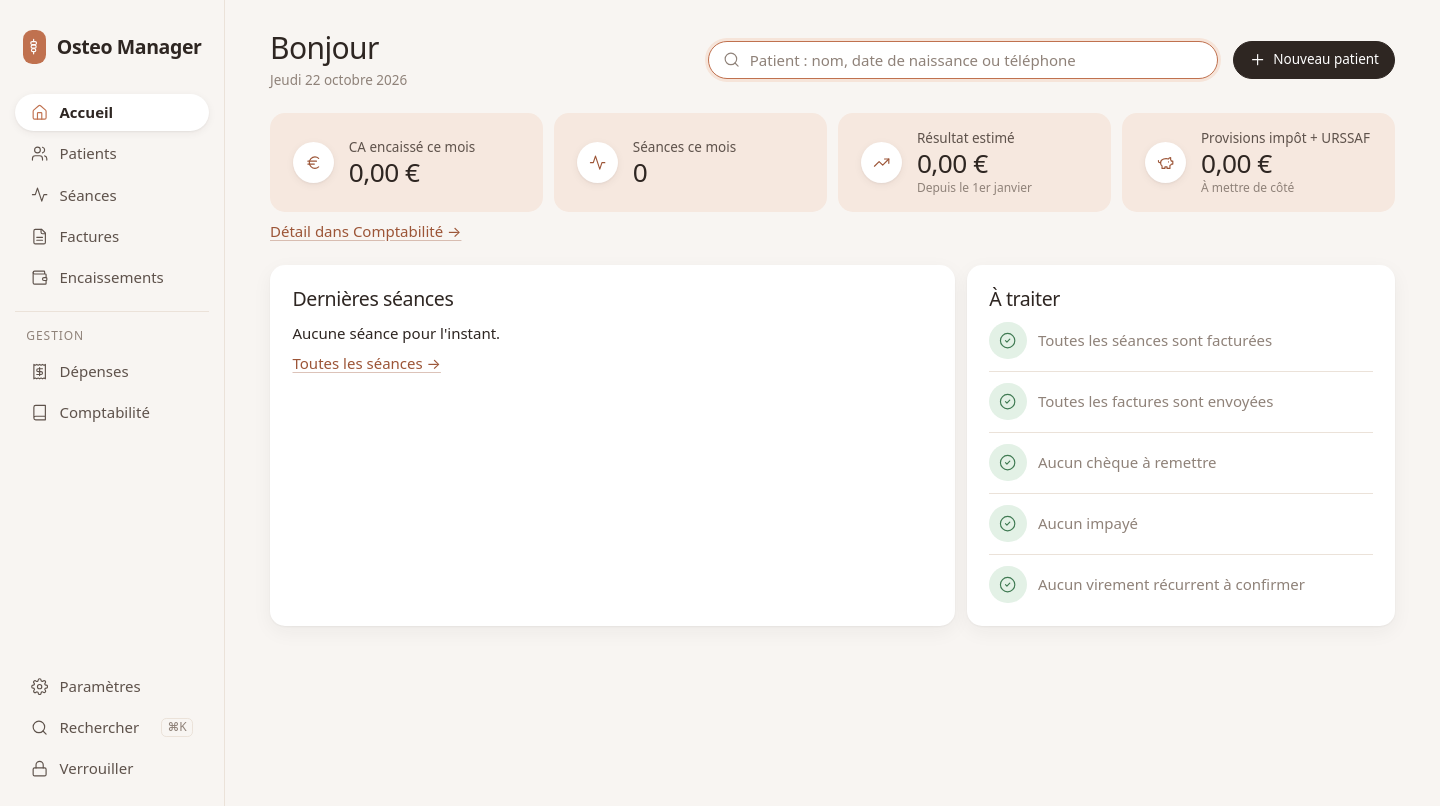
Test case: le choix du fournisseur remplit le serveur et affiche son aide
Click the button "Paramètres" at [112, 686], box 15,668 -> 209,705
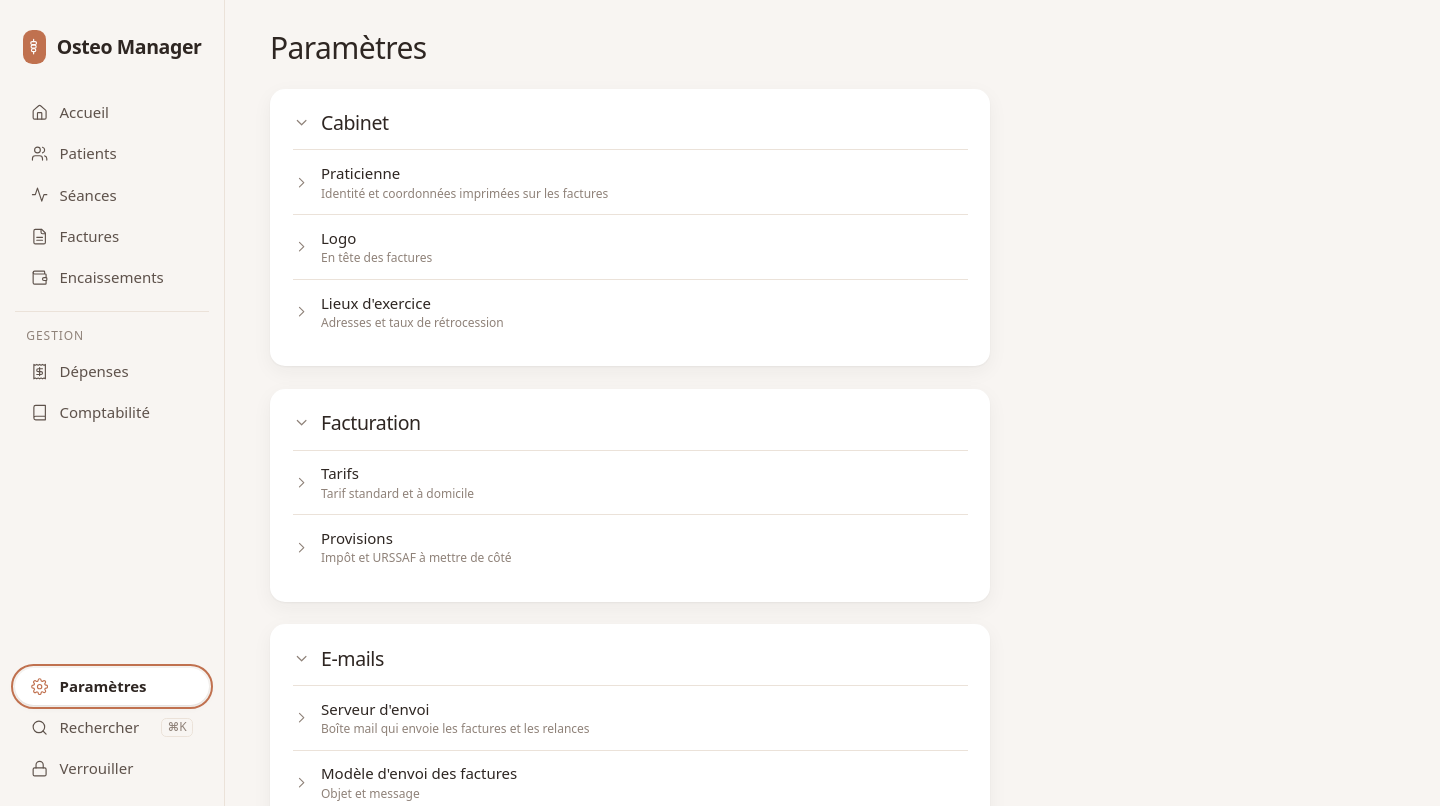
Click the heading "Serveur d'envoi" at [375, 708], box 321,698 -> 429,718
(page scrolled)
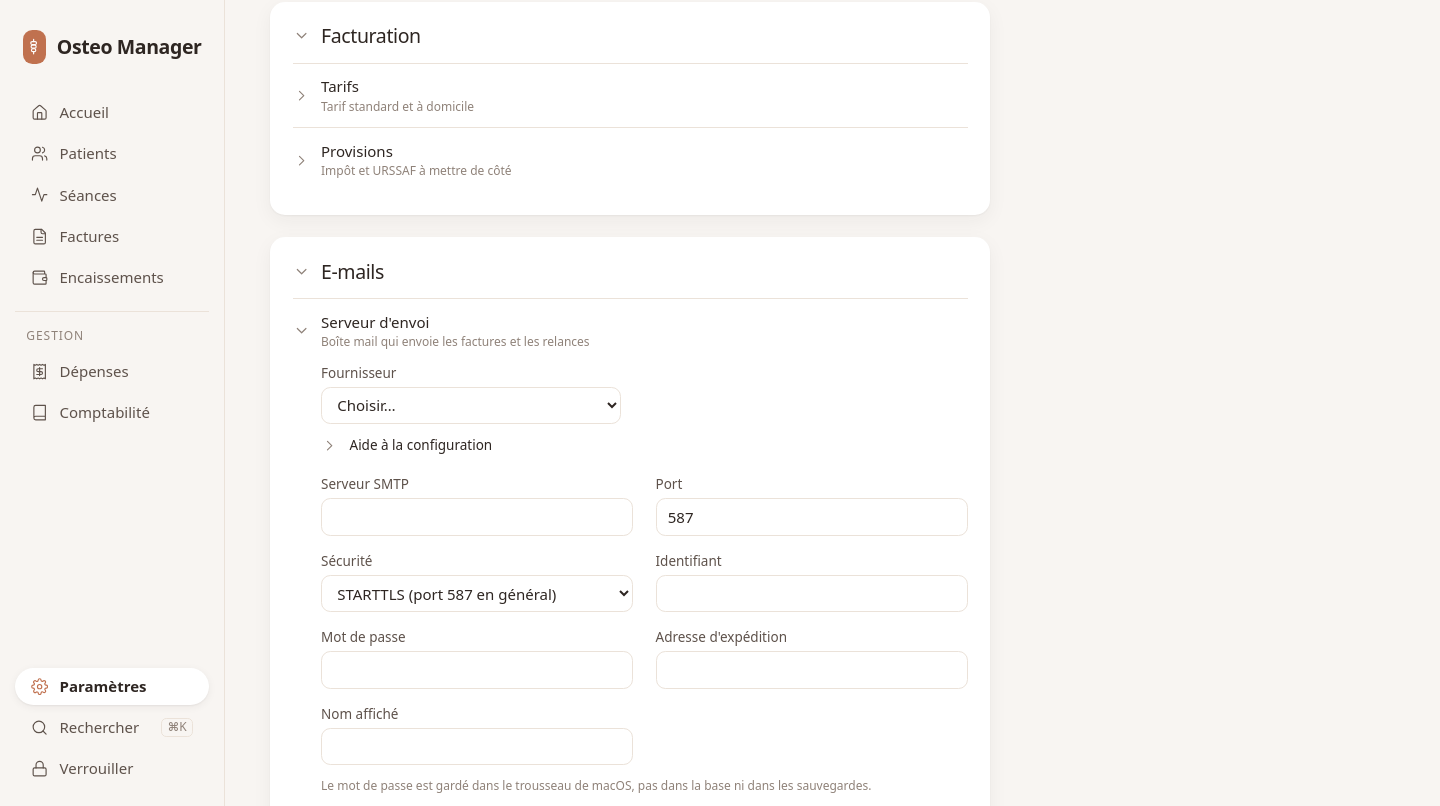
Expected: the dropdown labelled "Fournisseur" shows "Choisir…"
Select "Gmail" in the dropdown labelled "Fournisseur" at [471, 405], box 321,387 -> 621,424
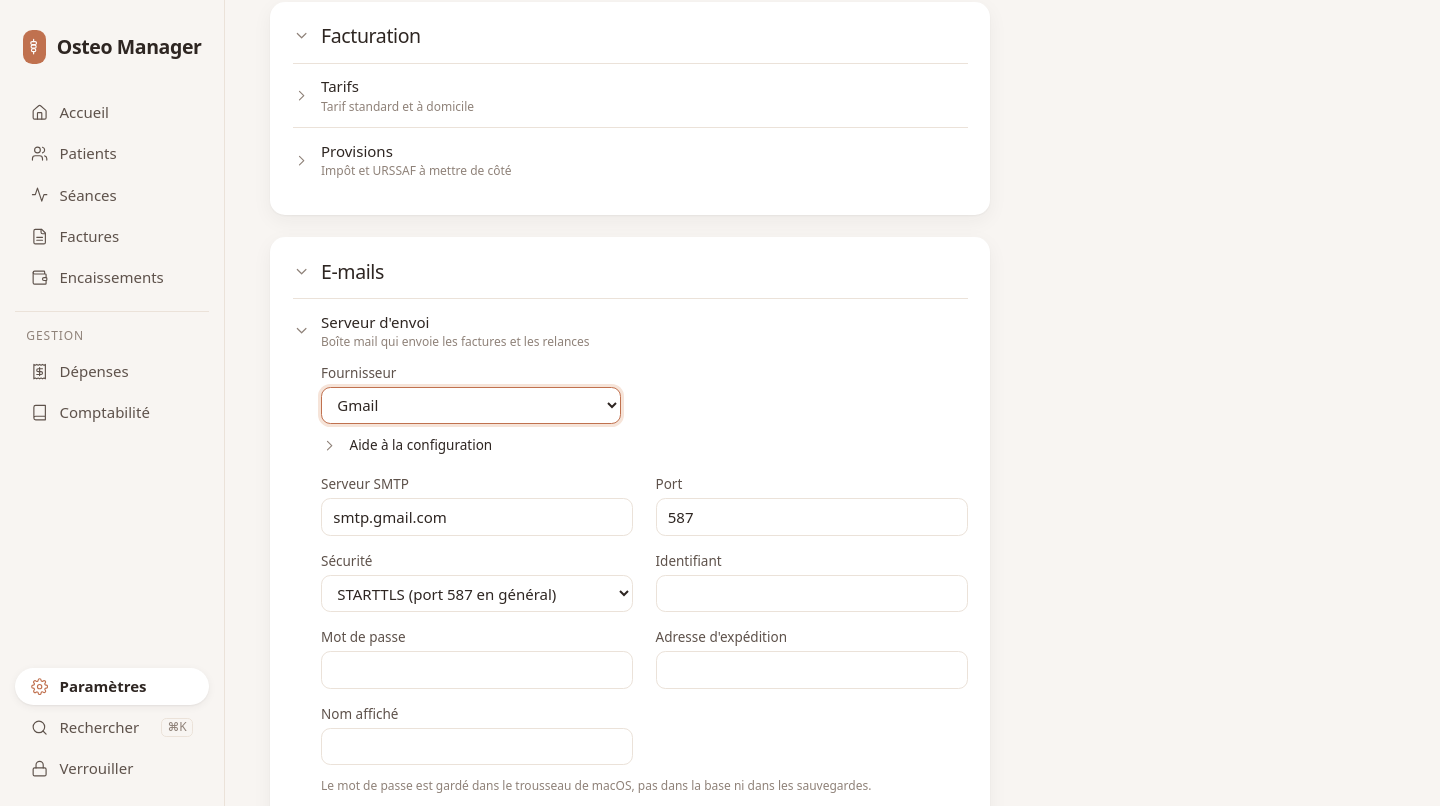
Expected: the field labelled "Port" holds "587", 656,498 -> 968,536
Expected: the dropdown labelled "Sécurité" shows "STARTTLS (port 587 en général)", 321,575 -> 633,612
Expected: the field labelled "Serveur SMTP" holds "smtp.gmail.com", 321,498 -> 633,536
Click the heading "Aide à la configuration" at [407, 445], box 321,436 -> 492,454
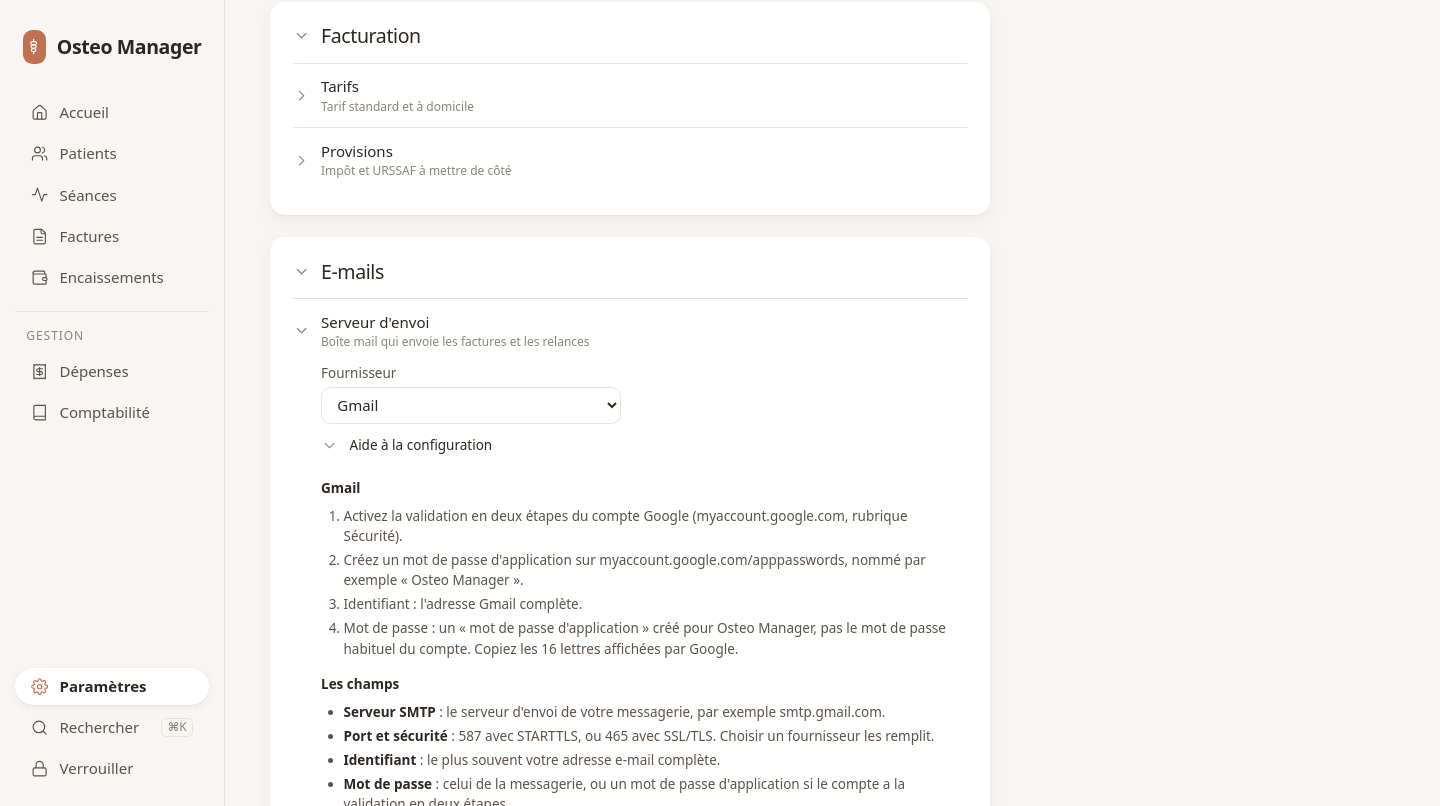
Expected: the list item "myaccount.google.com/apppasswords" is shown, 344,551 -> 926,590
Select "Orange" in the dropdown labelled "Fournisseur" at [471, 405], box 321,387 -> 621,424
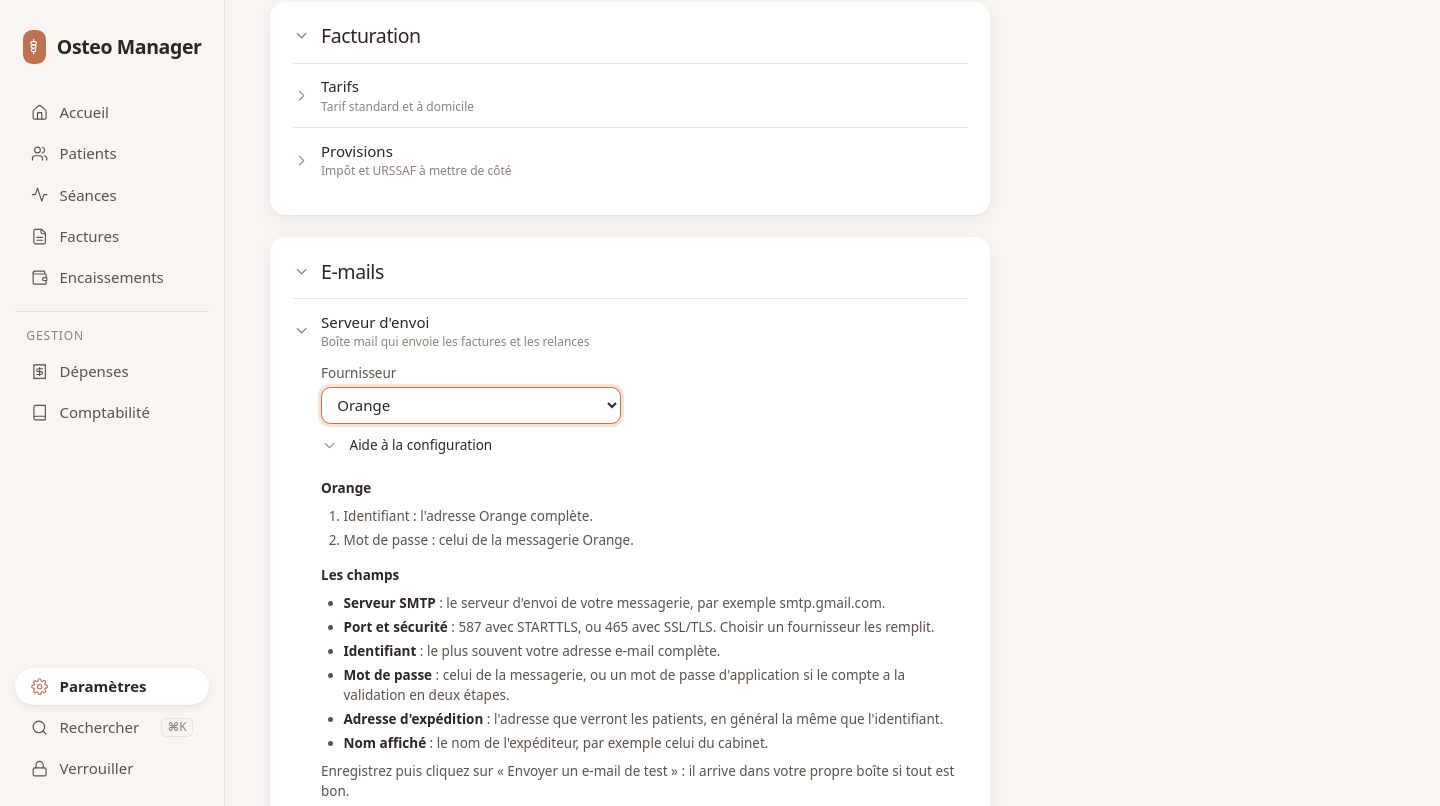
Expected: the list item "apppasswords" is gone
Select "Autre" in the dropdown labelled "Fournisseur" at [471, 405], box 321,387 -> 621,424
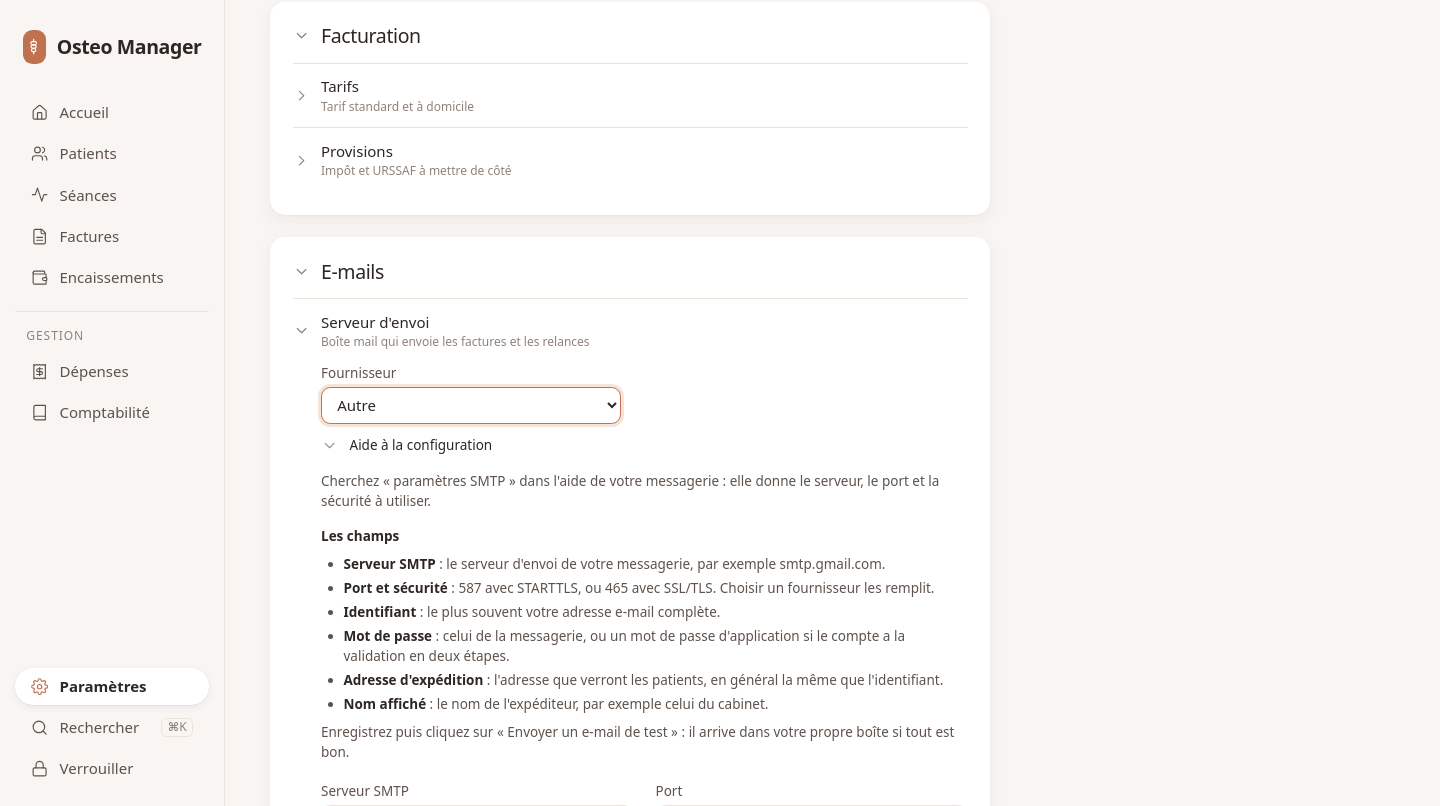
Expected: the text "paramètres SMTP" is shown, 321,472 -> 939,510
